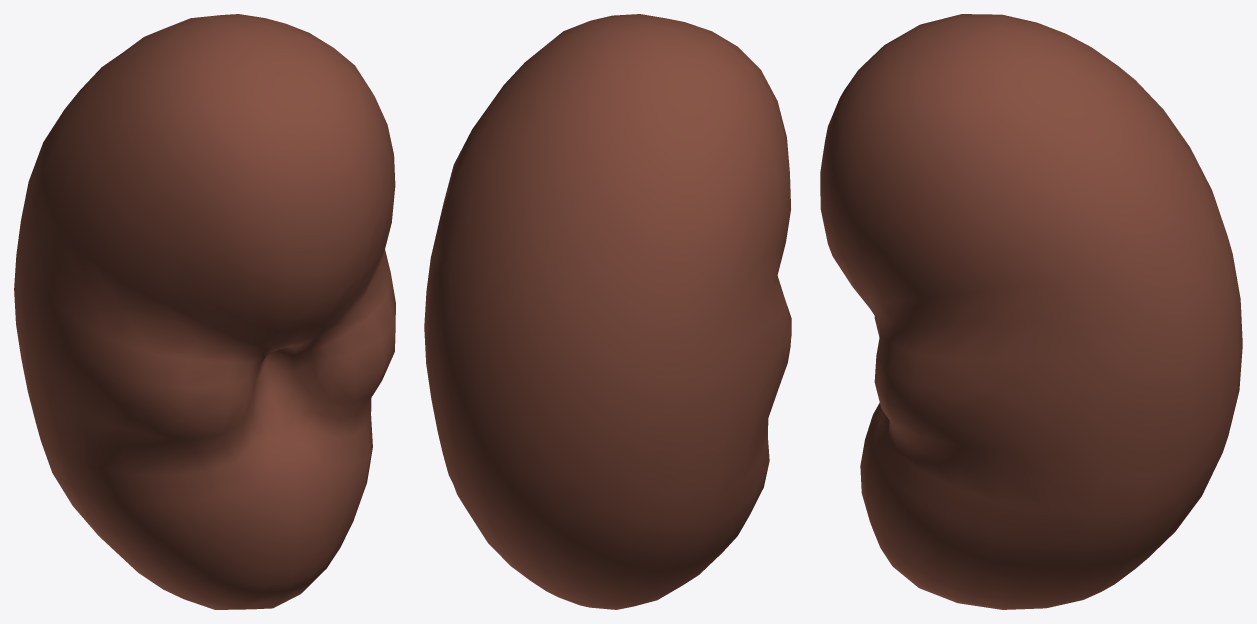
The model's file is Rinon_completo.glb.
3 renders of one model, left to right at view 1: azimuth 30°, elevation 25°; view 2: azimuth 150°, elevation 25°; view 3: azimuth 270°, elevation 25°, orthographic. The views are drawn at different scales.
Visible parts, largest first — view 1: RINON_COMPLETO; view 2: RINON_COMPLETO; view 3: RINON_COMPLETO.
Part boxes in pixels (x1,y1,x2,y2): RINON_COMPLETO: [14, 14, 395, 609]; RINON_COMPLETO: [424, 14, 791, 609]; RINON_COMPLETO: [820, 14, 1242, 609].
Bounding box in the file's own units: 1.38 × 2.41 × 1.61.
